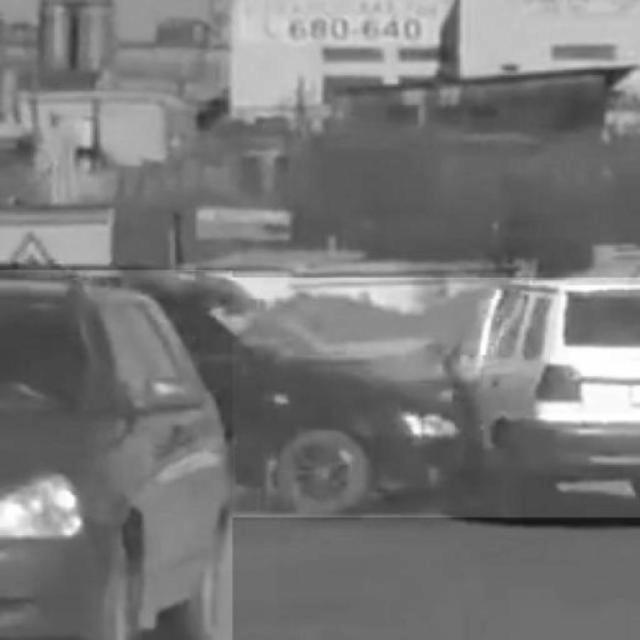accident: (135, 278, 640, 518)
vehicle: (0, 270, 232, 640)
